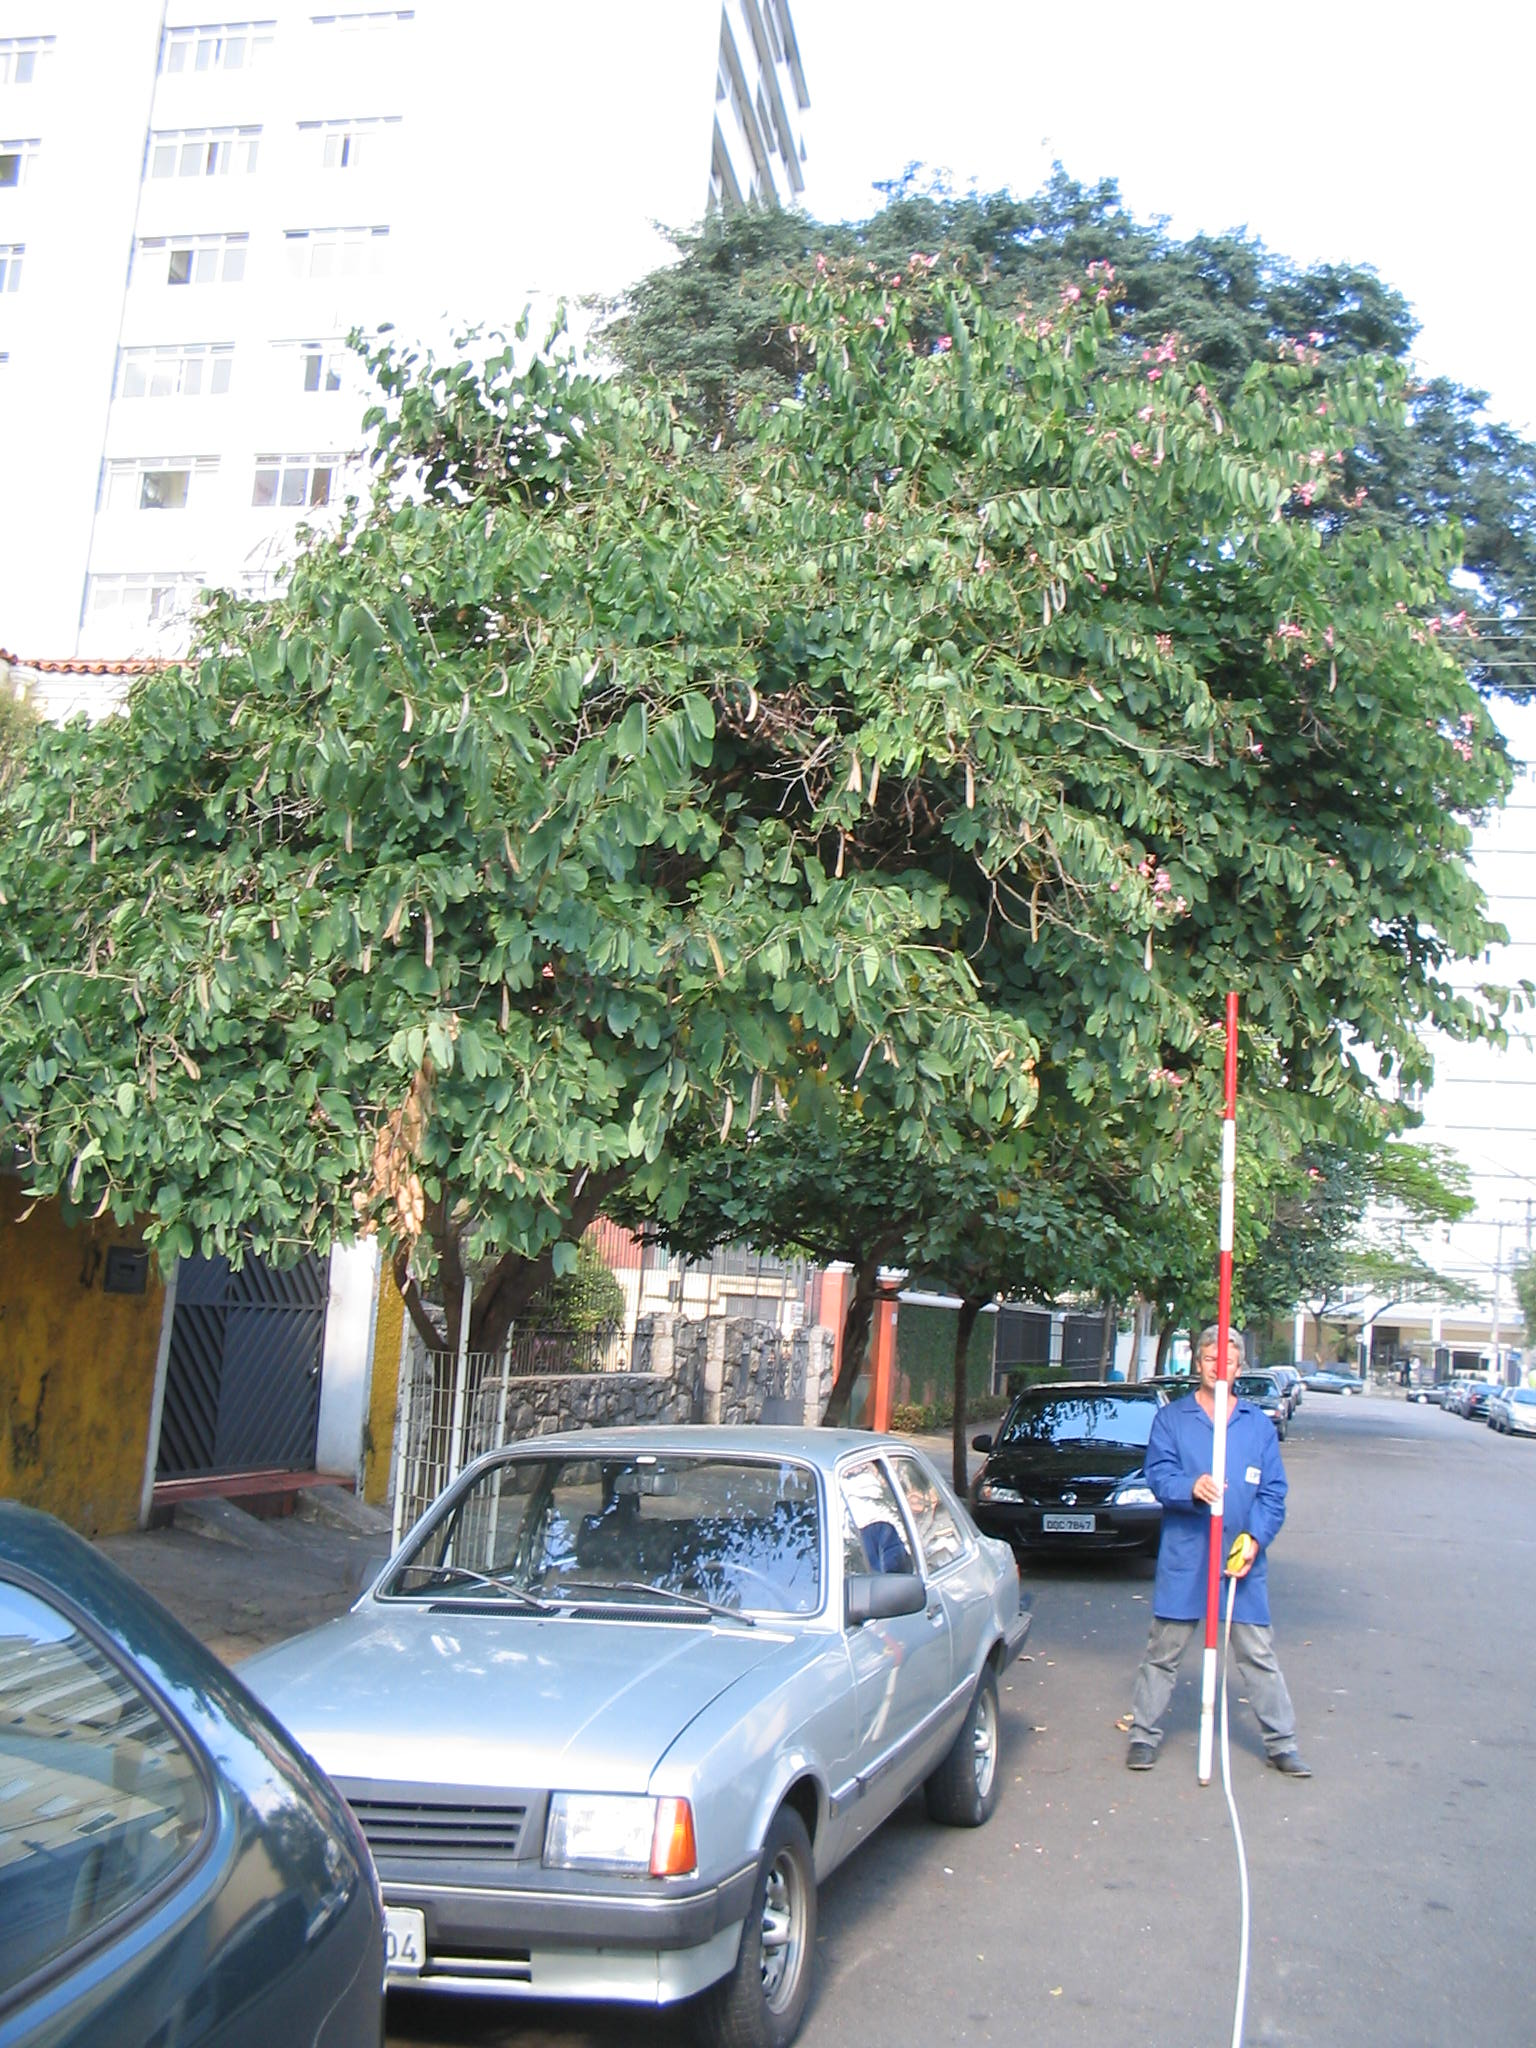stick: (1175, 992, 1263, 1787)
